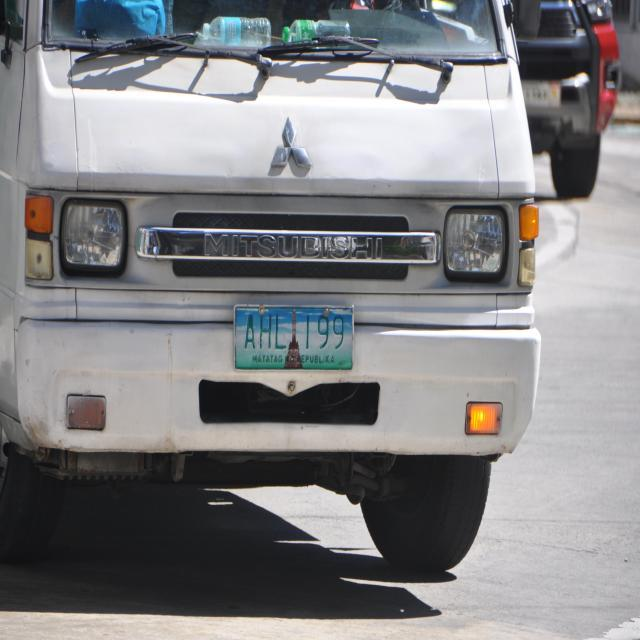LicensePlate: (224, 295, 389, 384), (223, 299, 368, 375)
